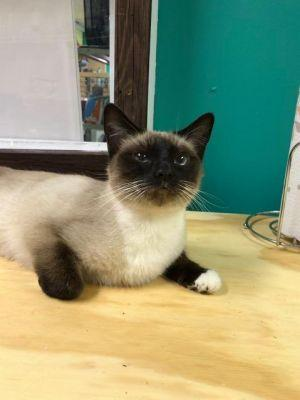siamese: (93, 94, 224, 225)
